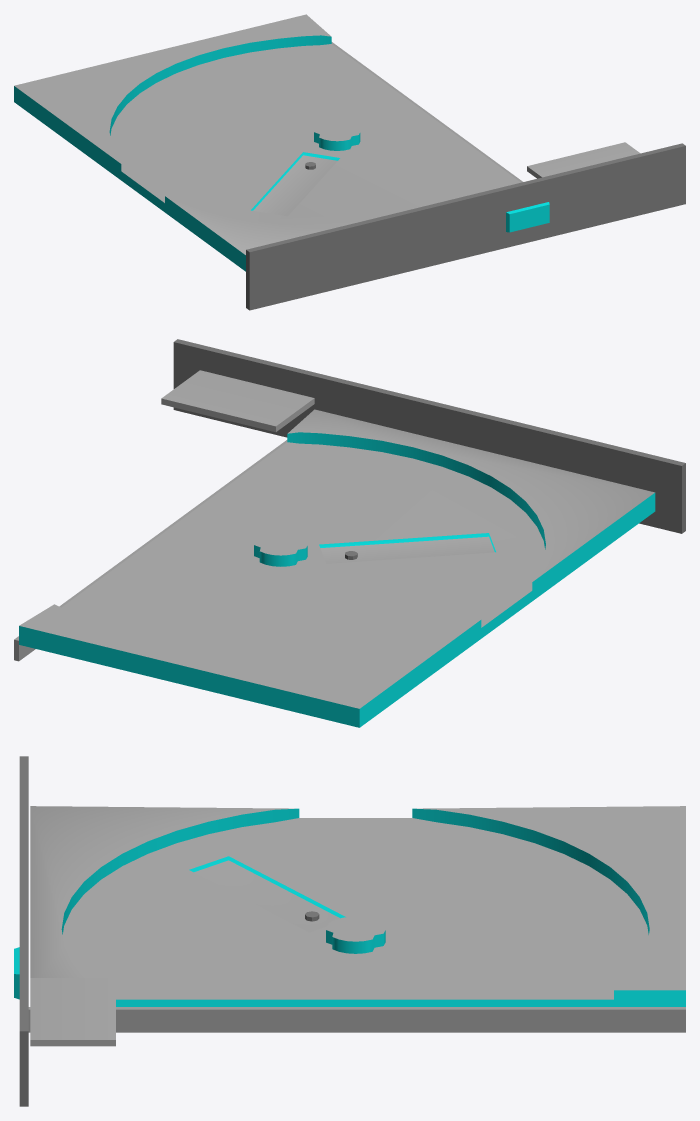
The model's file is mainPlatform.fbx.
The picture shows the model from 3 angles, top to bottom: view 1: azimuth 30°, elevation 25°; view 2: azimuth 150°, elevation 25°; view 3: azimuth 270°, elevation 25°; orthographic projection. The views are drawn at different scales.
Visible parts, largest first — view 1: pCube9, pCube2, pCylinder1, pCube3, pCube5; view 2: pCube9, pCube2, pCylinder1, pCube5; view 3: pCube9, pCube5, pCube2, pCylinder1.
Part boxes in pixels (x1,y1,x2,y2): pCube9: [14, 14, 640, 271]; pCube2: [246, 143, 685, 310]; pCylinder1: [314, 121, 360, 150]; pCube3: [506, 202, 549, 232]; pCube5: [331, 42, 522, 182]; pCube9: [19, 370, 655, 727]; pCube2: [173, 339, 685, 533]; pCylinder1: [254, 533, 307, 566]; pCube5: [14, 440, 287, 661]; pCube9: [30, 806, 685, 1046]; pCube5: [28, 1007, 685, 1032]; pCube2: [19, 756, 28, 1106]; pCylinder1: [326, 916, 385, 953].
Bounding box in the file's own units: 8.93 × 1.14 × 9.22.
